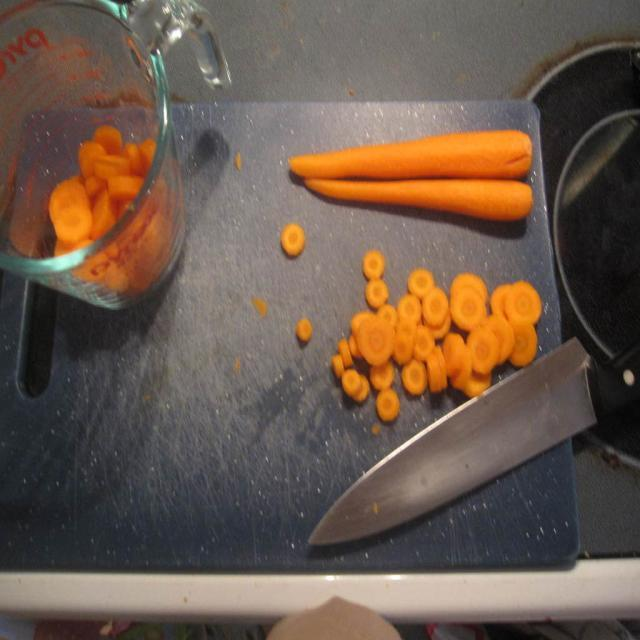Knife: (310, 339, 640, 545)
